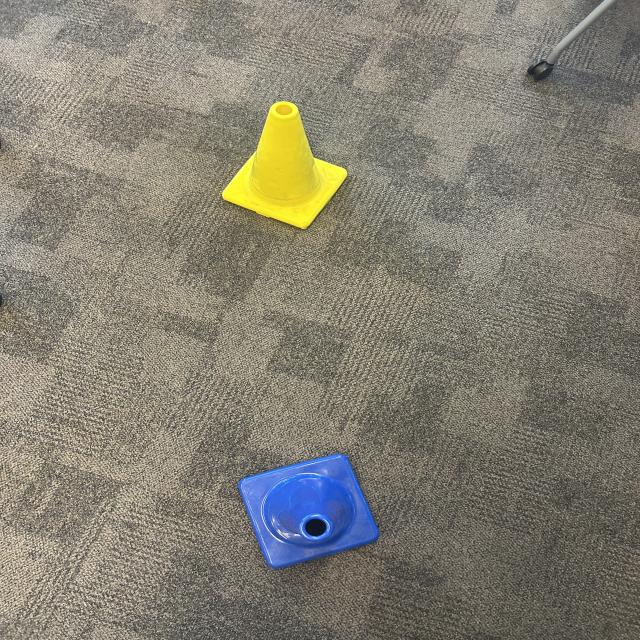blue_cone: (238, 454, 379, 567)
yellow_cone: (221, 102, 349, 228)
